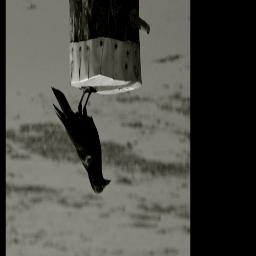Crow: (50, 81, 112, 198)
